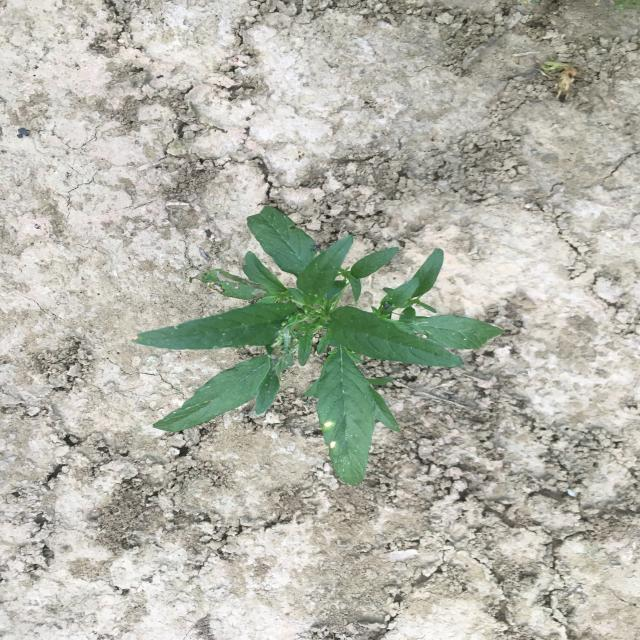Waterhemp: (127, 205, 507, 489)
